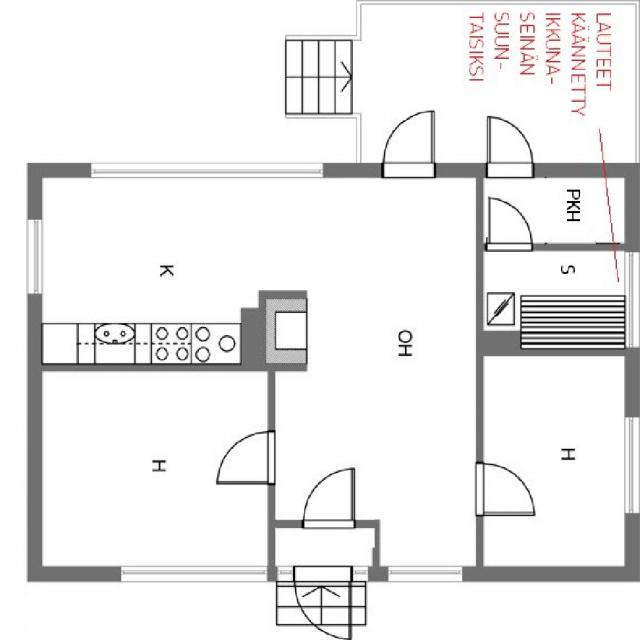door: (294, 566, 350, 639), (381, 108, 434, 177), (477, 463, 535, 515), (302, 469, 353, 528), (218, 431, 275, 482), (487, 116, 533, 177), (489, 198, 532, 250)
